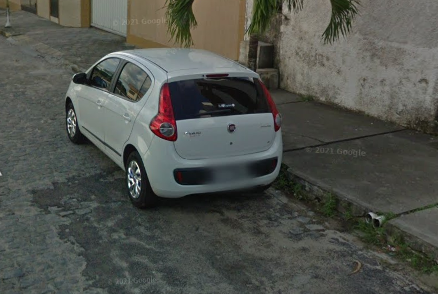car: (59, 40, 287, 211)
